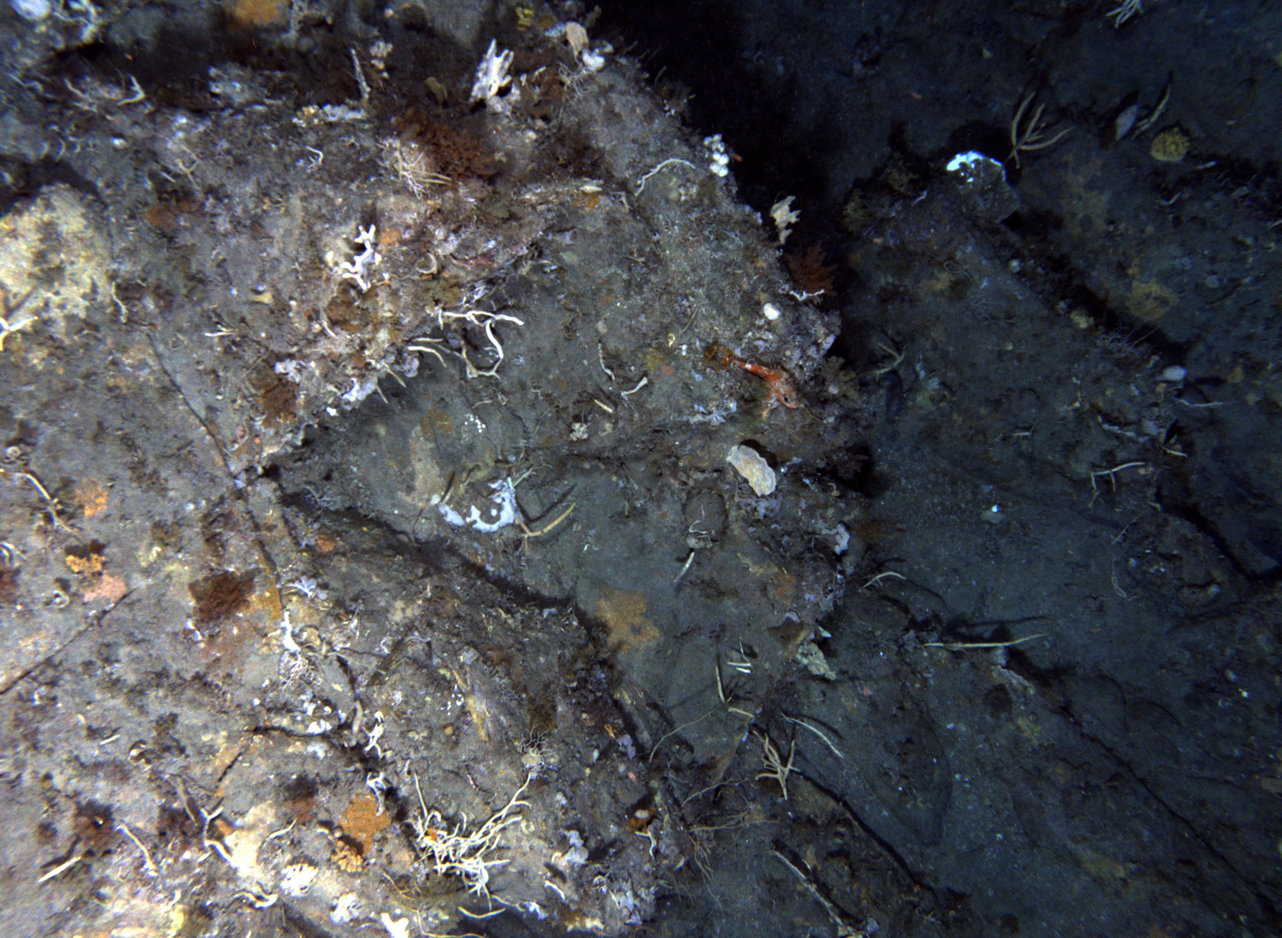Brachionichthyidae: (465, 253, 500, 267)
